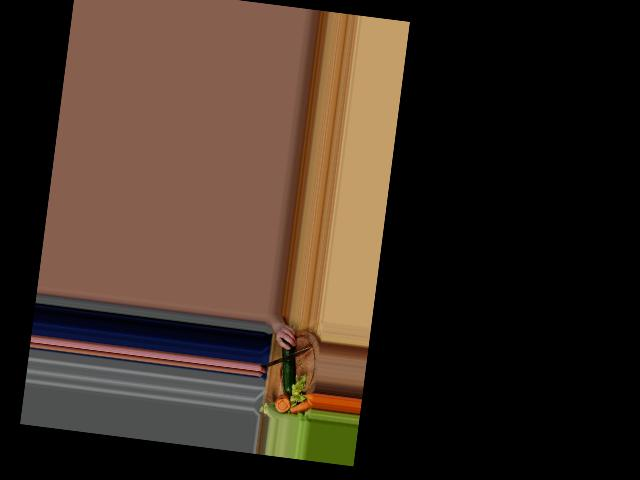cucumber: (276, 339, 300, 394)
